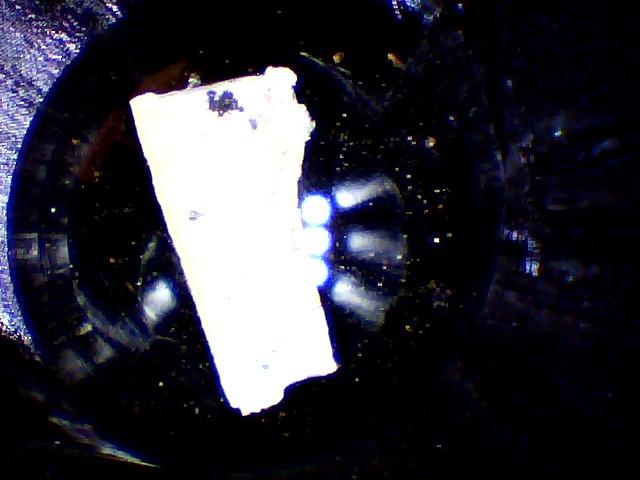megot: (118, 57, 344, 420)
